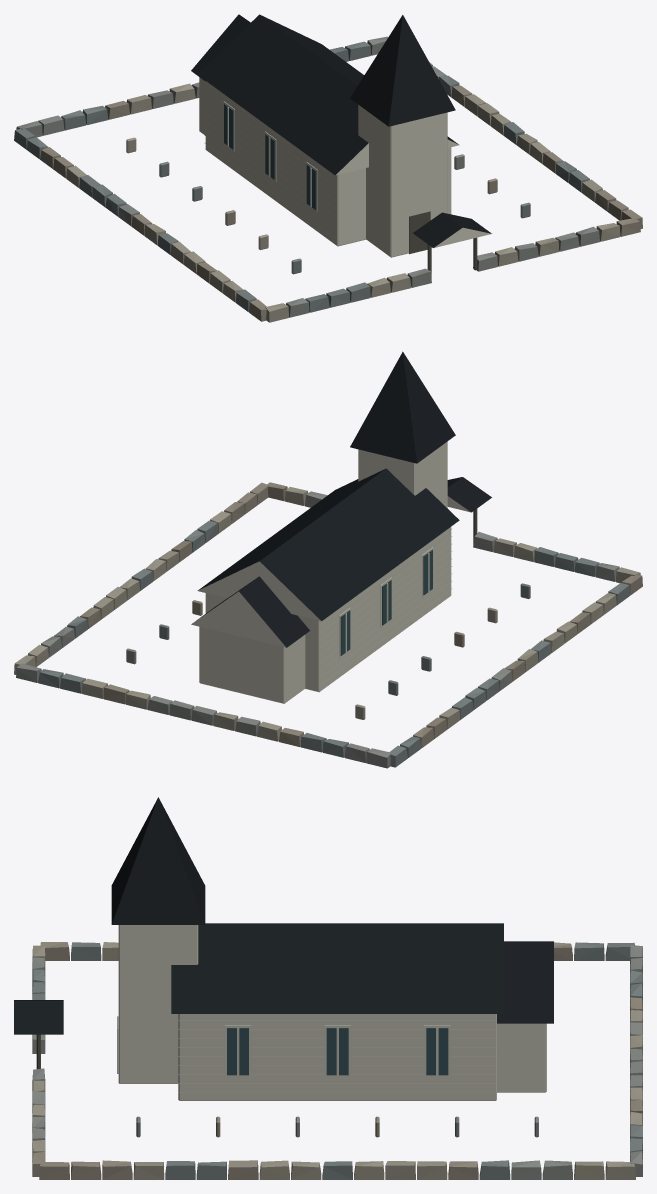
The model's file is church.glb.
3 renders of one model, top to bottom at view 1: azimuth 30°, elevation 25°; view 2: azimuth 150°, elevation 25°; view 3: azimuth 270°, elevation 25°, orthographic. The views are drawn at different scales.
Visible parts, largest first — view 1: church; view 2: church; view 3: church.
Part boxes in pixels (<box>): church: <box>14,14,642,322</box>; church: <box>14,351,642,768</box>; church: <box>14,797,642,1179</box>.
Size of the model in its own units: 26.65 by 15 by 31.57.
